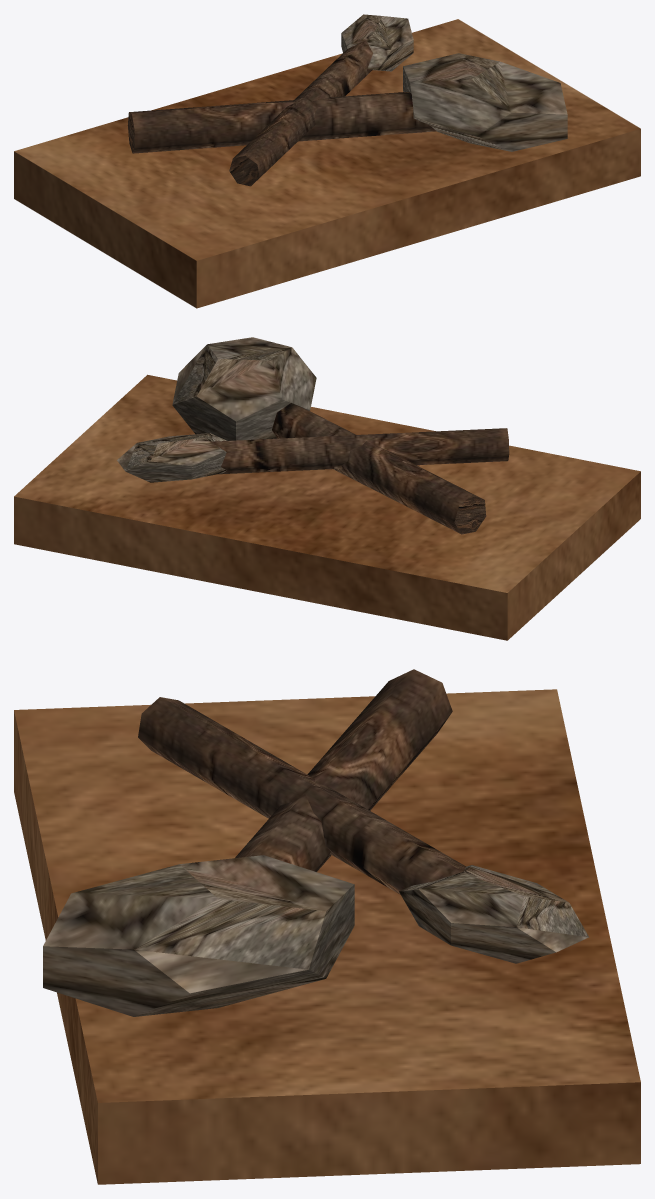
Rendered from tools.glb.
3 views of the same model, one above another, from view 1: azimuth 30°, elevation 25°; view 2: azimuth 150°, elevation 25°; view 3: azimuth 270°, elevation 25° (orthographic). The views are drawn at different scales.
Parts seen in each view (by area): view 1: part_0, part_1, part_2; view 2: part_0, part_1, part_2; view 3: part_0, part_2, part_1.
Part boxes in pixels (bbox=[...]): part_0: bbox=[14, 19, 640, 308]; part_1: bbox=[127, 40, 436, 186]; part_2: bbox=[341, 14, 567, 151]; part_0: bbox=[14, 374, 640, 640]; part_1: bbox=[211, 403, 509, 534]; part_2: bbox=[117, 337, 316, 482]; part_0: bbox=[14, 689, 640, 1184]; part_2: bbox=[43, 855, 588, 1016]; part_1: bbox=[138, 669, 466, 894].
Bounding box in the file's own units: 0.5311 × 0.1182 × 0.3402.
Materials: 4 (3 with a texture image).
